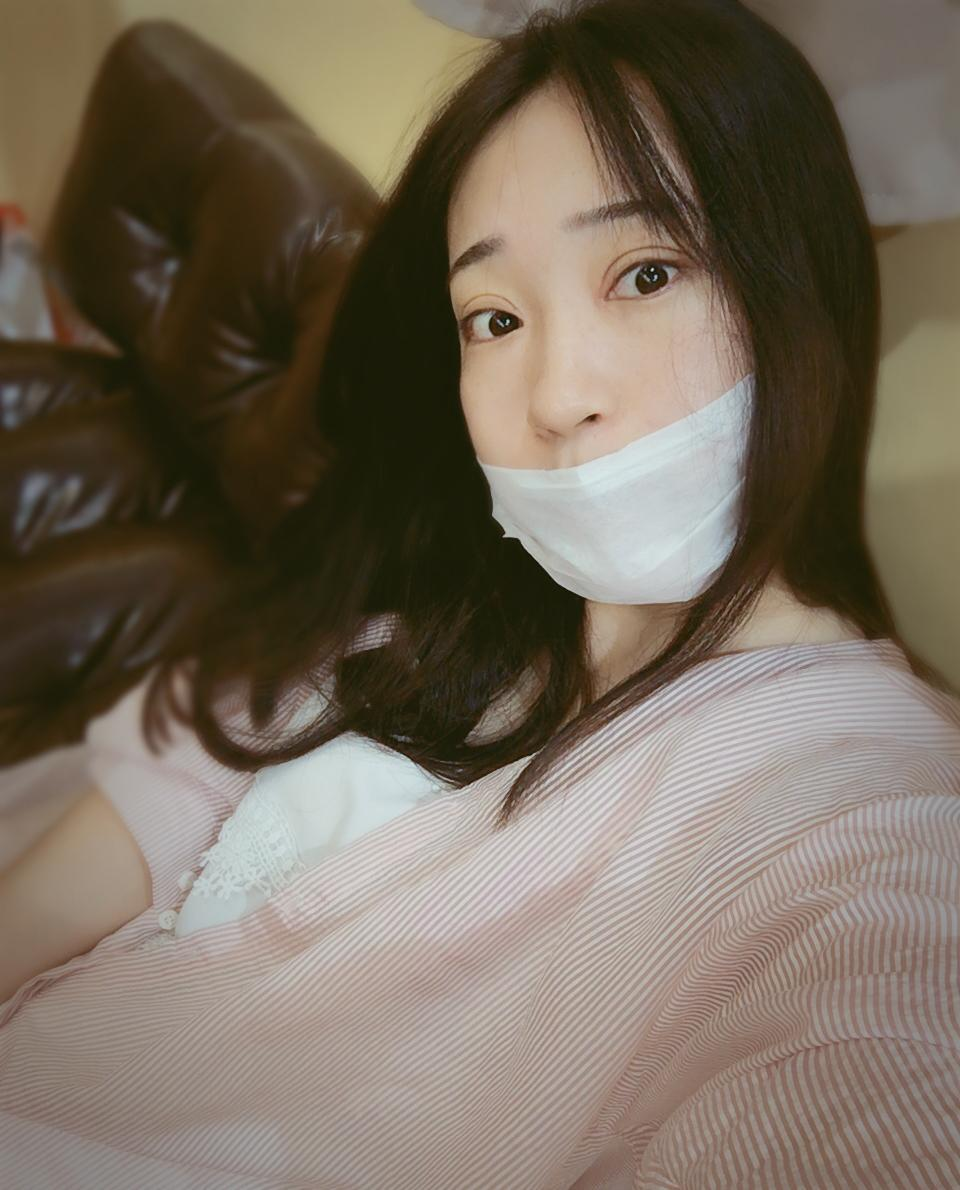WRONG: (437, 212, 812, 604)
